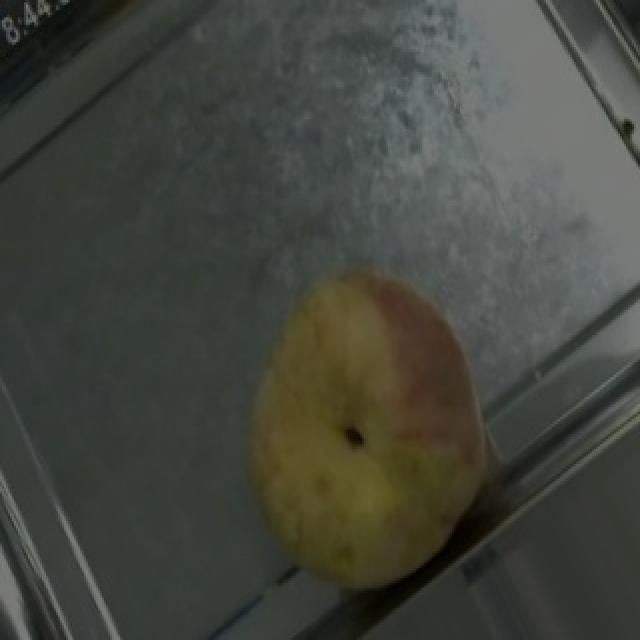Fruit: (200, 220, 532, 628)
